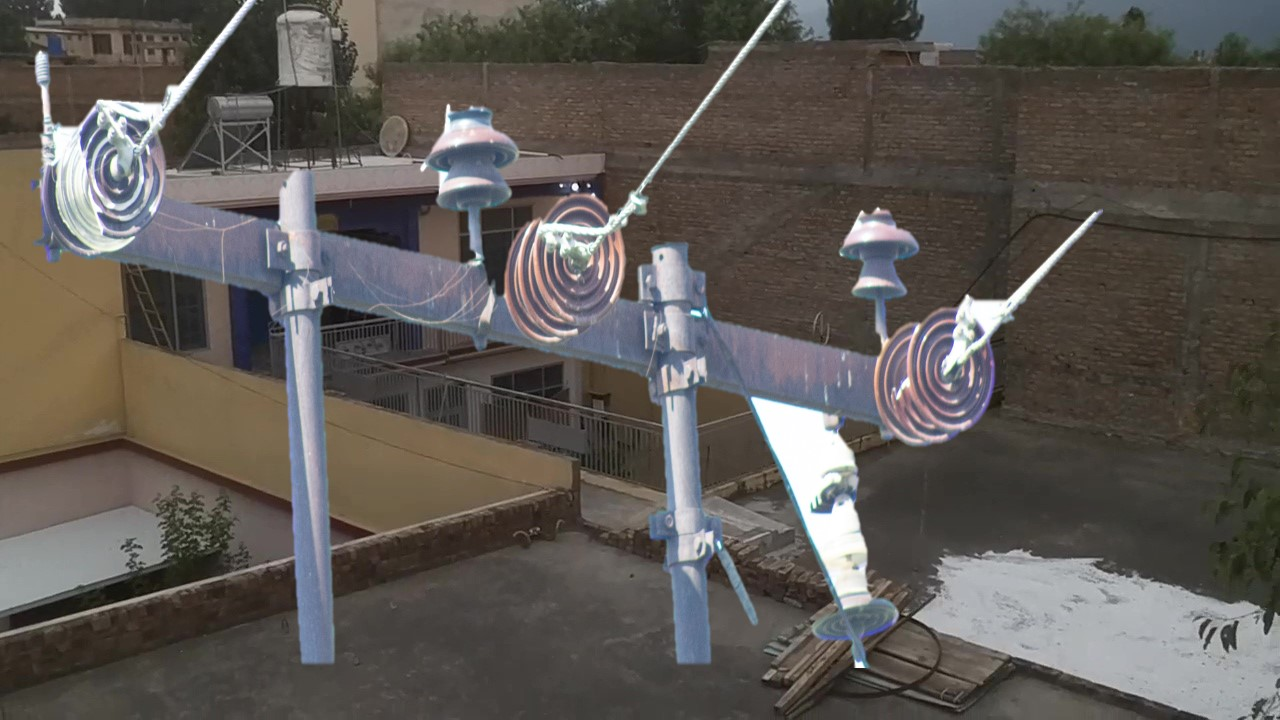defect_disc: (75, 94, 171, 243)
insulator_disc: (523, 182, 630, 331), (905, 301, 1000, 438)
